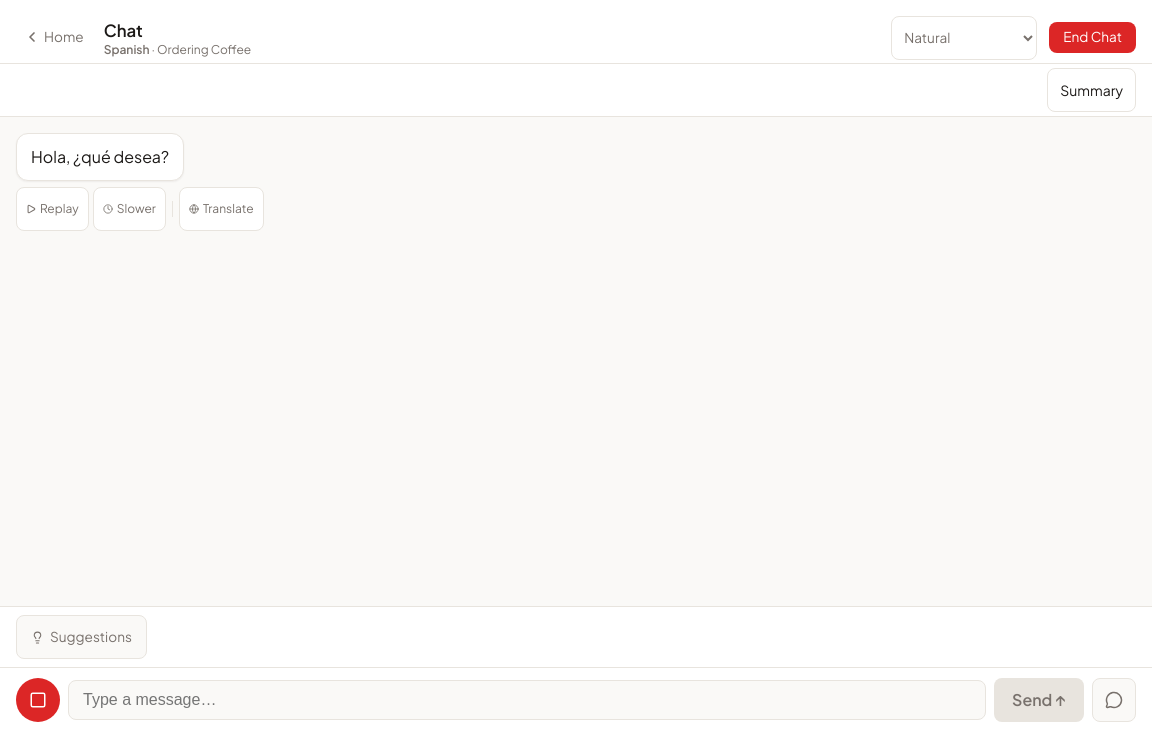
Test case: Chat — transcription confidence forwarding (T082, FR-010) › surfaces a transcription failure instead of sending an empty turn
This screenshot has width=1152, height=732.
Expected: the field labelled "Type a message" is shown, x1=68 y1=680 x2=986 y2=720
Step 1. Click the button named "Stop recording" → click(38, 700), box x1=16 y1=678 x2=60 y2=722
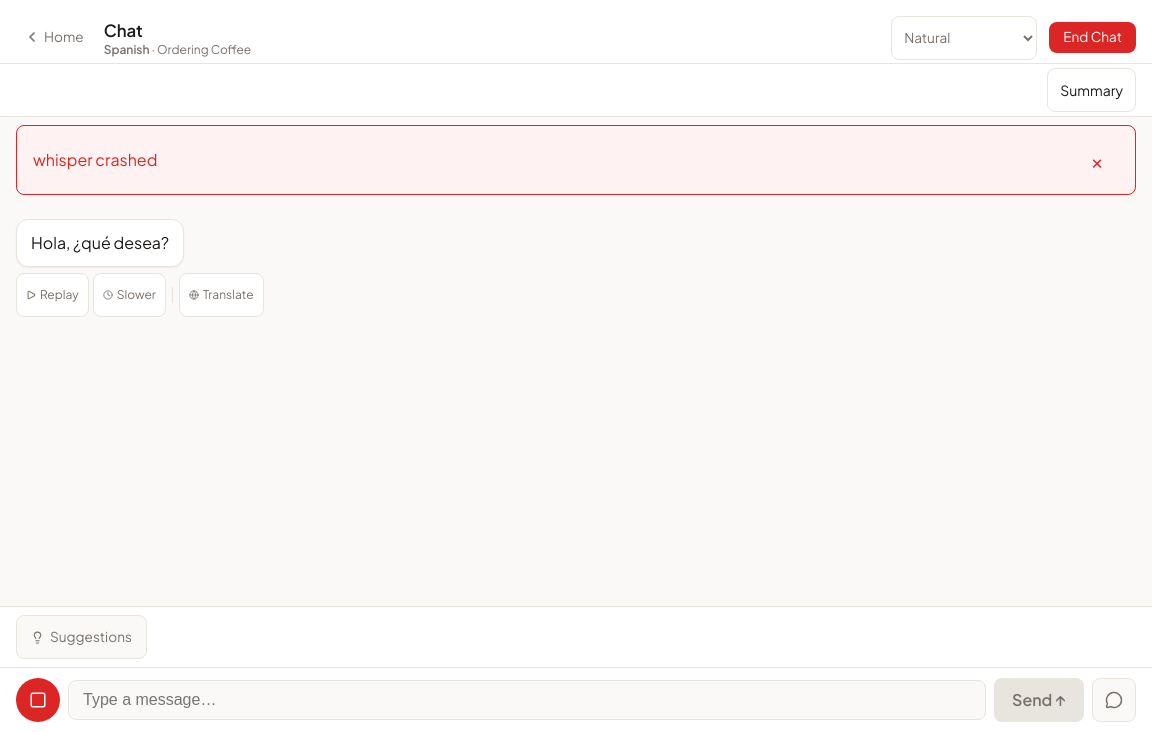
Expected: the text "whisper crashed" is shown, x1=33 y1=148 x2=157 y2=172
